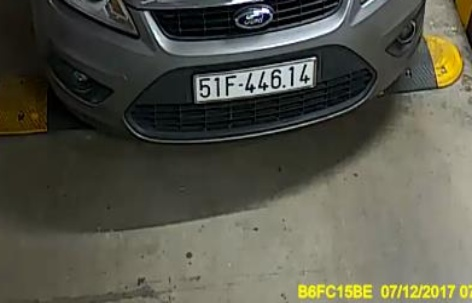plate: (186, 60, 322, 103)
